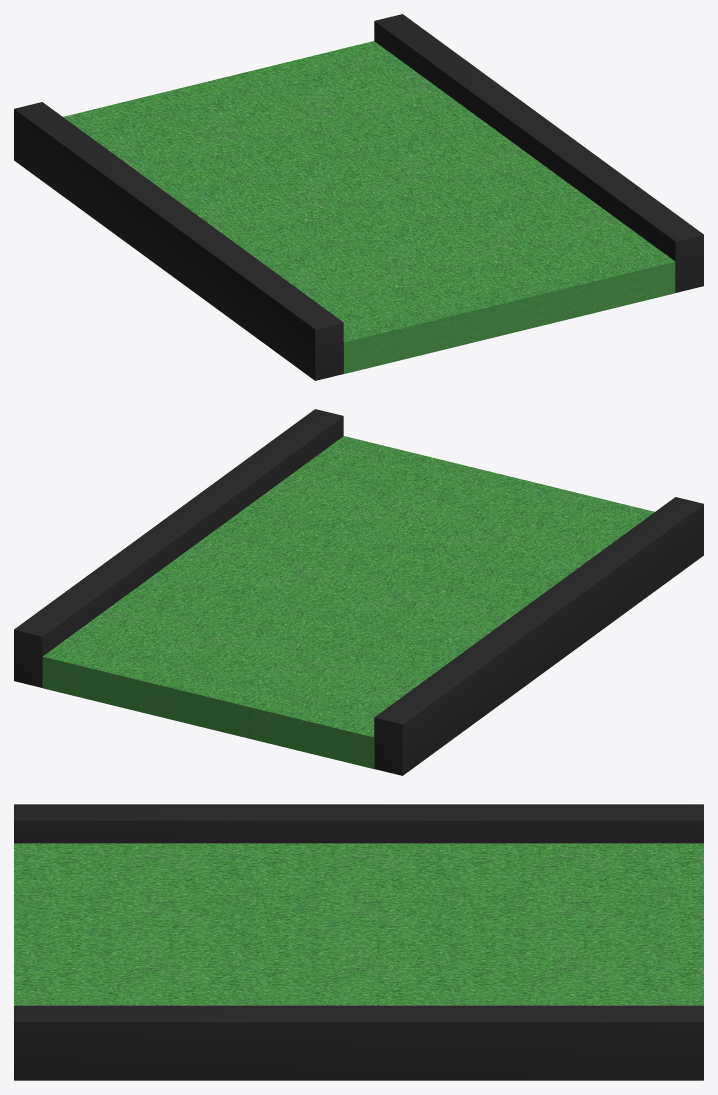
File: StrightSec.fbx
3 renders of one model, top to bottom at view 1: azimuth 30°, elevation 25°; view 2: azimuth 150°, elevation 25°; view 3: azimuth 270°, elevation 25°, orthographic. The views are drawn at different scales.
Parts seen in each view (by area): view 1: Floor, L_Wall, R_Wall; view 2: Floor, L_Wall, R_Wall; view 3: Floor, R_Wall, L_Wall.
Part boxes in pixels (<box>): Floor: <box>63,41,675,373</box>; L_Wall: <box>14,102,343,380</box>; R_Wall: <box>374,14,703,292</box>; Floor: <box>42,436,654,768</box>; L_Wall: <box>374,497,703,775</box>; R_Wall: <box>14,409,343,687</box>; Floor: <box>14,843,703,1005</box>; R_Wall: <box>14,1005,703,1080</box>; L_Wall: <box>14,804,703,843</box>.
Size of the model in its own units: 149 by 19 by 200.
Materials: 2 (1 with a texture image).
